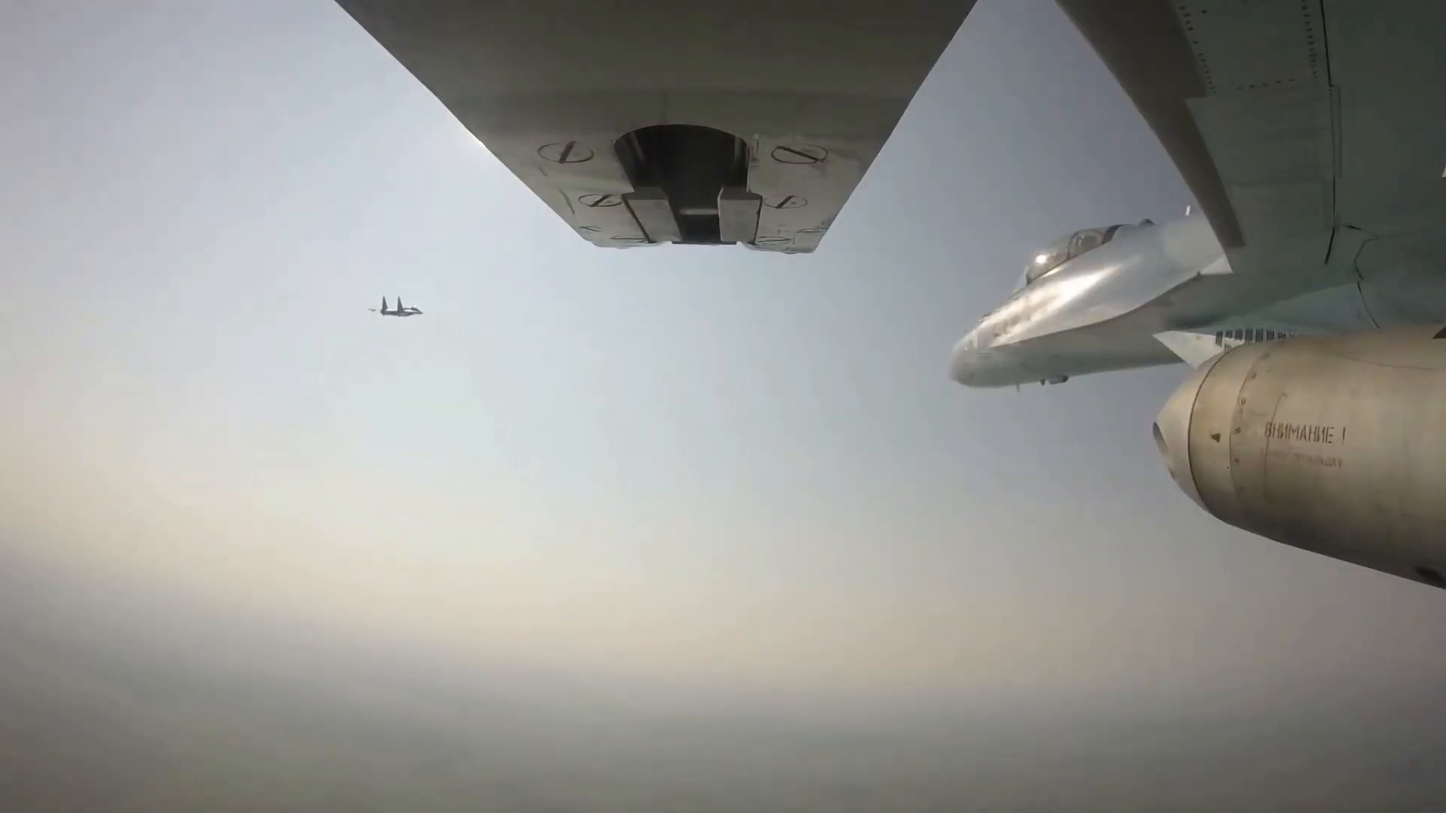Su35: (327, 0, 1446, 589), (370, 296, 424, 318)
